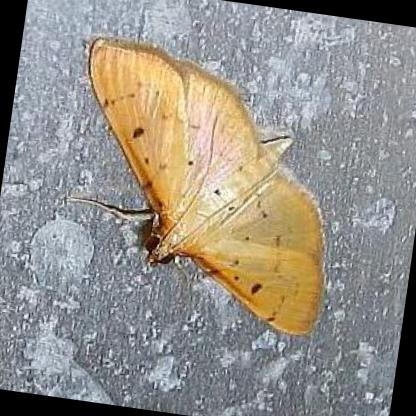Leaf Webber: (65, 38, 331, 337)
